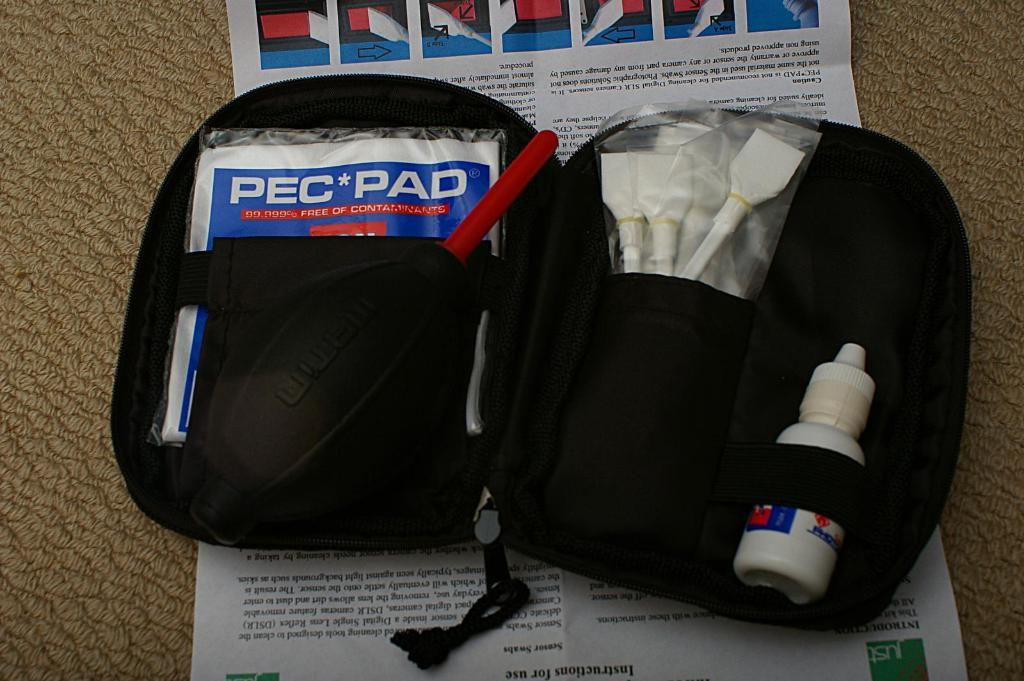Luggage-and-bags: (362, 93, 970, 634)
